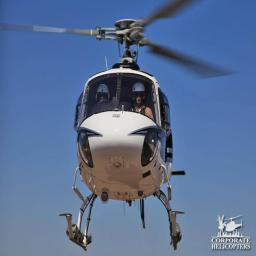helicopter: (8, 5, 230, 246)
